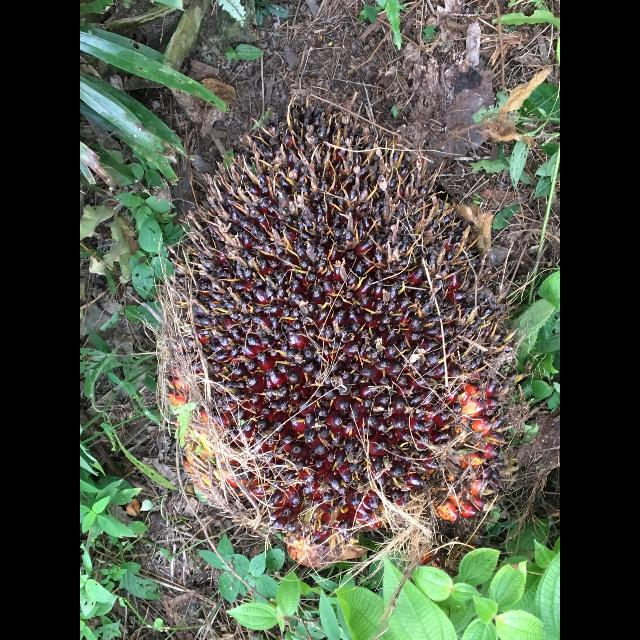Unripe: (155, 102, 511, 575)
